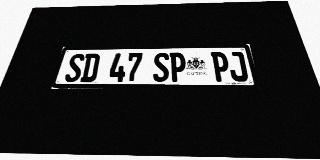4: (108, 53, 127, 82)
7: (125, 53, 143, 82)
D: (80, 53, 101, 82)
J: (227, 52, 249, 82)
P: (211, 52, 231, 82), (170, 52, 186, 82)
S: (64, 54, 85, 82), (153, 53, 169, 82)
